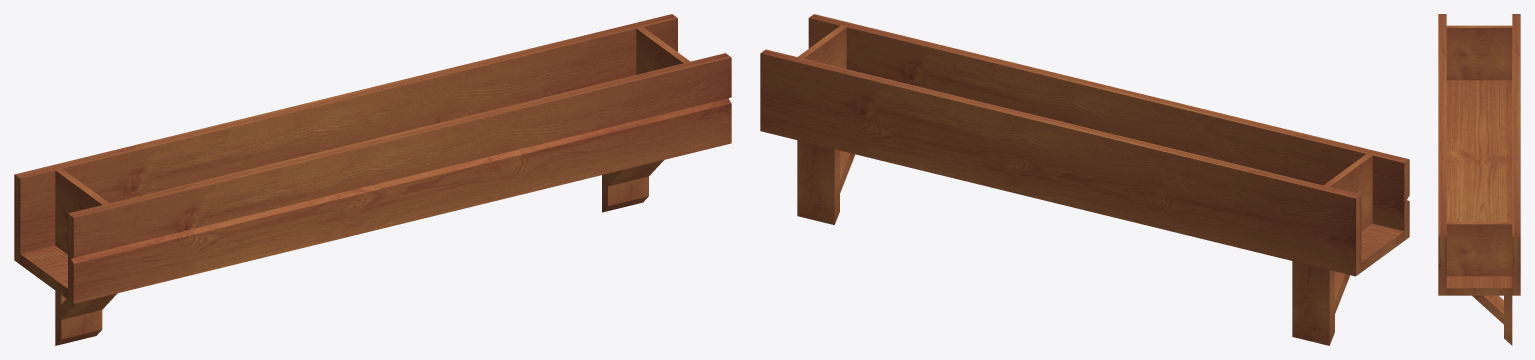
3 views of the same model, side by side, from view 1: azimuth 30°, elevation 25°; view 2: azimuth 150°, elevation 25°; view 3: azimuth 270°, elevation 25° (orthographic). The views are drawn at different scales.
Visible parts, largest first — view 1: front, back, bracket001, left, bracket002, bottom, right; view 2: back, front, bracket002, bracket001, left, bottom, right; view 3: bottom, left, right, back, front, bracket002.
Part boxes in pixels (x1,y1,x2,y2): front: (68, 53, 731, 303); back: (14, 14, 677, 264); bracket001: (55, 291, 117, 345); left: (55, 168, 110, 254); bracket002: (602, 160, 663, 212); bottom: (20, 245, 67, 299); right: (636, 27, 691, 74); back: (760, 49, 1361, 276); front: (808, 14, 1409, 240); bracket002: (797, 140, 855, 224); bracket001: (1292, 261, 1350, 345); left: (1323, 153, 1373, 231); bottom: (1361, 223, 1404, 271); right: (798, 25, 847, 68); bottom: (1446, 80, 1512, 295); left: (1444, 25, 1512, 80); right: (1444, 222, 1512, 276); back: (1512, 14, 1520, 295); front: (1438, 14, 1446, 295); bracket002: (1472, 295, 1512, 345).
Size of the model in its own units: 48 by 12.25 by 7.5.
Materials: 3 (3 with a texture image).
